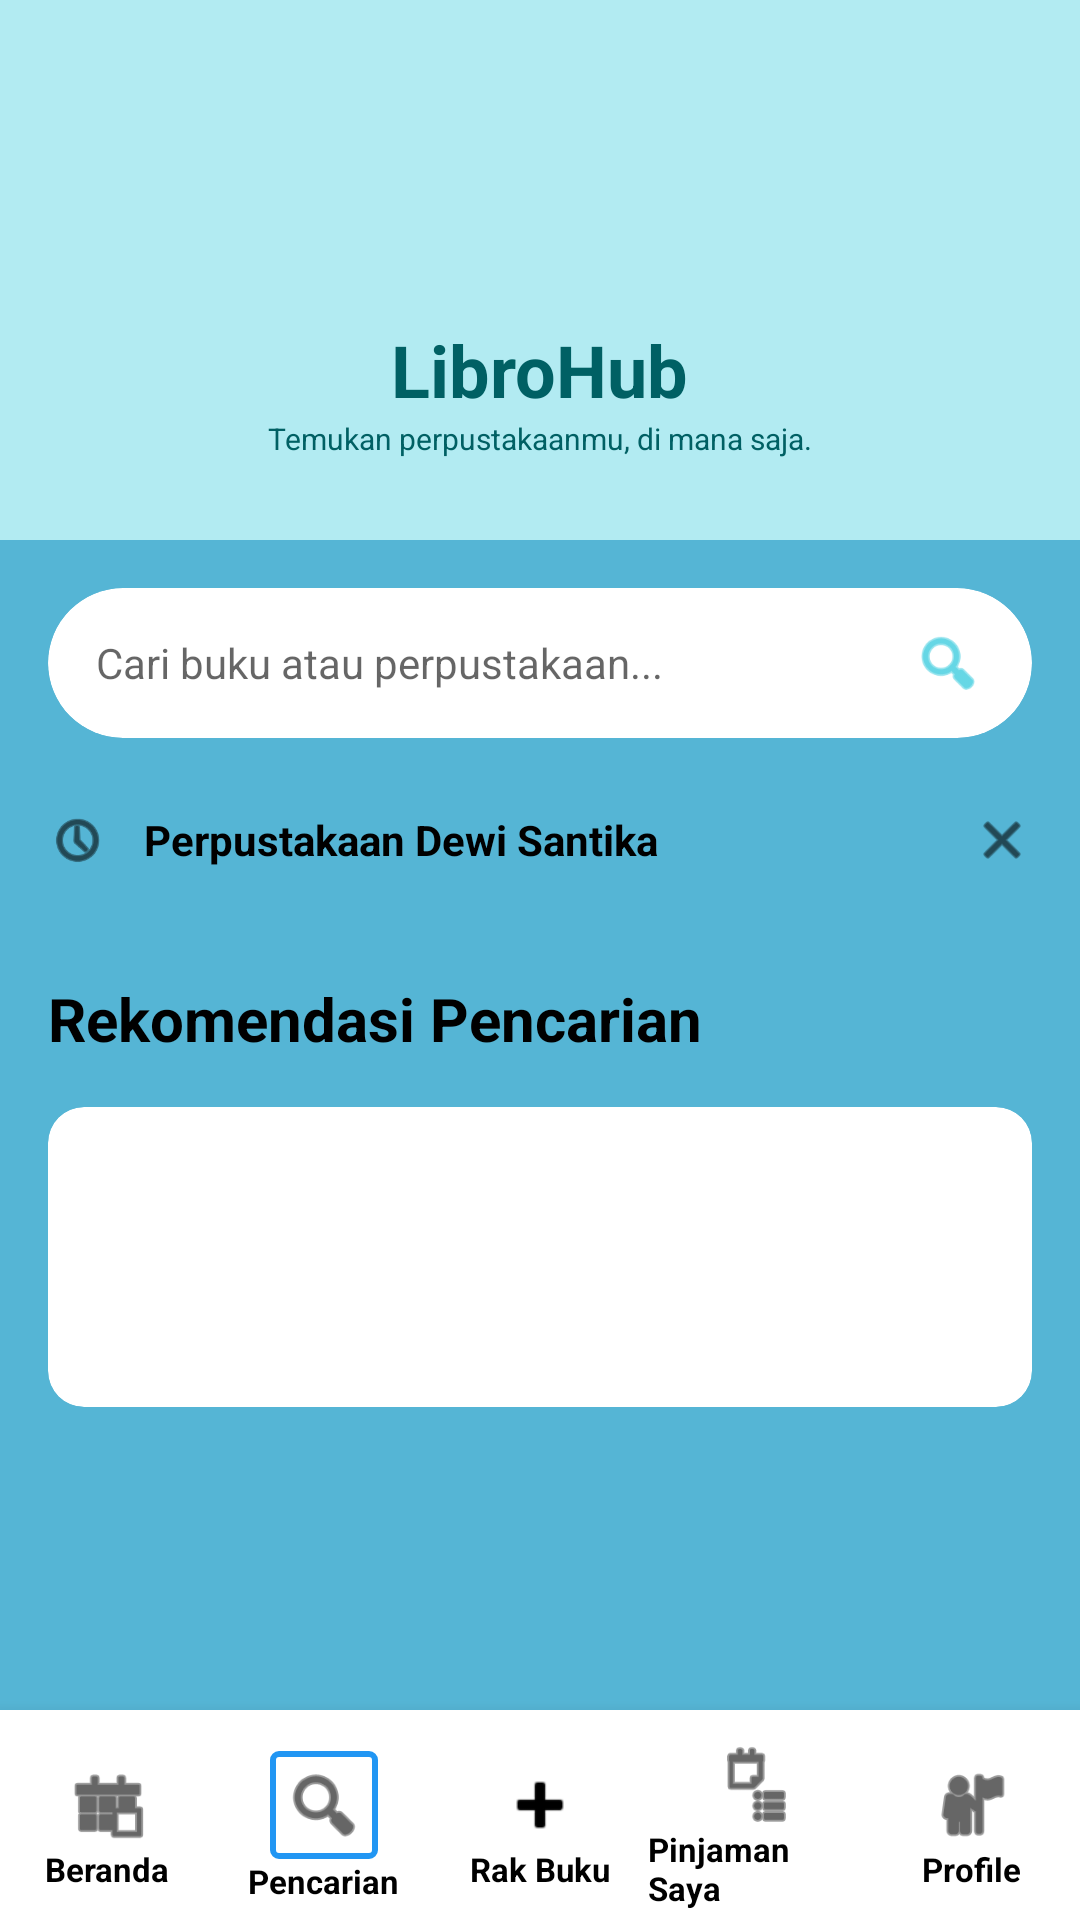

Locate icon controls on the screen. Image size 1080 x 1920, boxes as (x1, y1, x2, y2).
add: (516, 1781, 564, 1829)
agenda: (727, 1747, 786, 1822)
close clear cancel: (983, 821, 1021, 859)
myplaces: (941, 1774, 1005, 1836)
recent history: (56, 819, 99, 862)
today: (74, 1774, 143, 1838)
